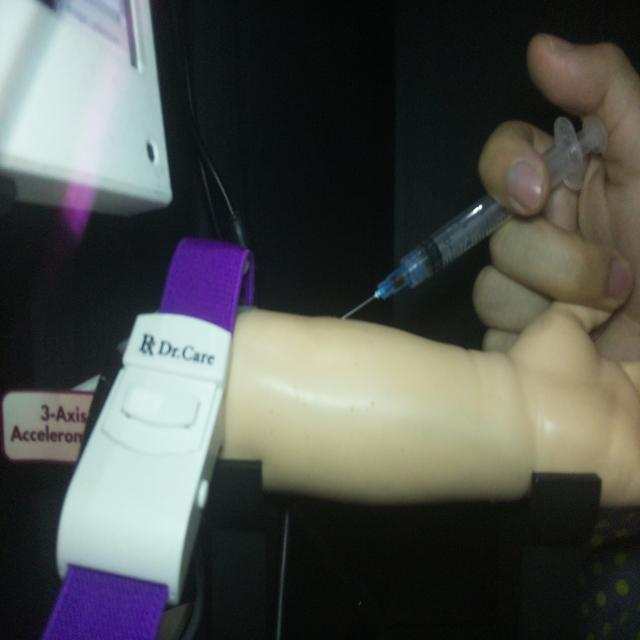29 degrees: (339, 110, 608, 322)
